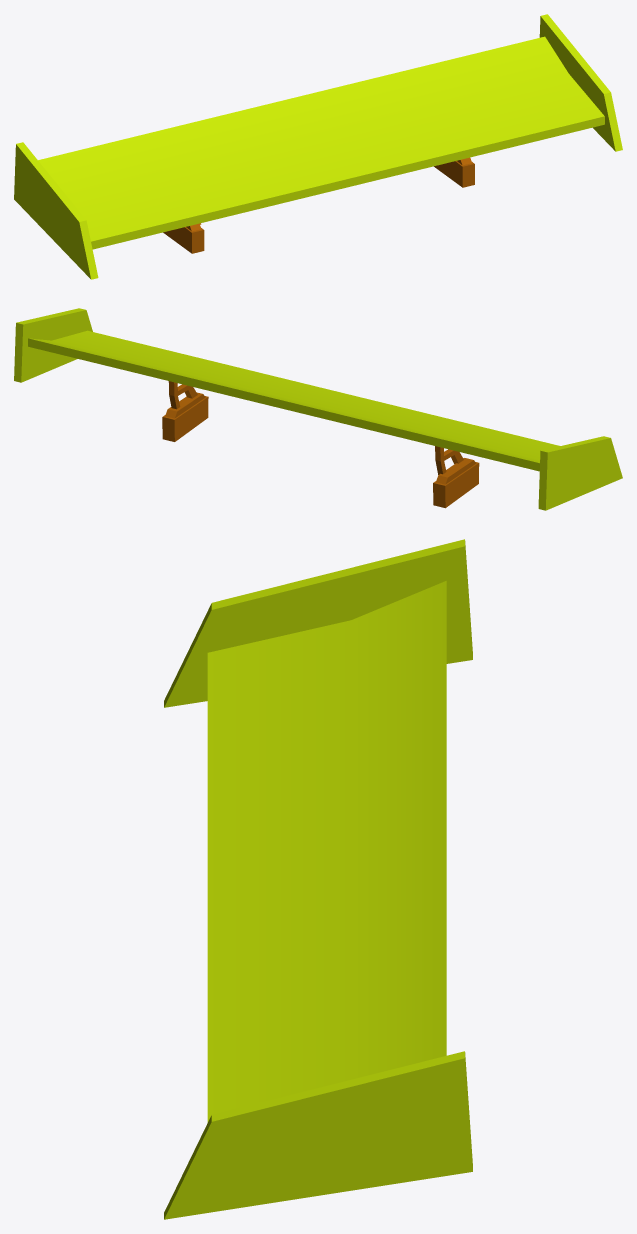
File: Spoiler02_ColorCoded.fbx
3 views of the same model, one above another, from view 1: azimuth 30°, elevation 25°; view 2: azimuth 150°, elevation 25°; view 3: azimuth 270°, elevation 25° (orthographic). The views are drawn at different scales.
Visible parts, largest first — view 1: Spoiler02; view 2: Spoiler02; view 3: Spoiler02.
Part boxes in pixels (<box>): Spoiler02: <box>14,14,622,279</box>; Spoiler02: <box>14,308,622,510</box>; Spoiler02: <box>164,539,472,1219</box>.
Size of the model in its own units: 44.69 by 11.24 by 8.07.
